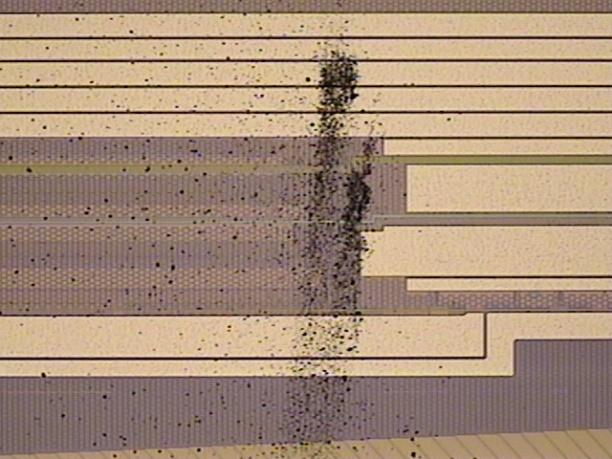PO CONTAMINATION: (1, 1, 429, 459)
